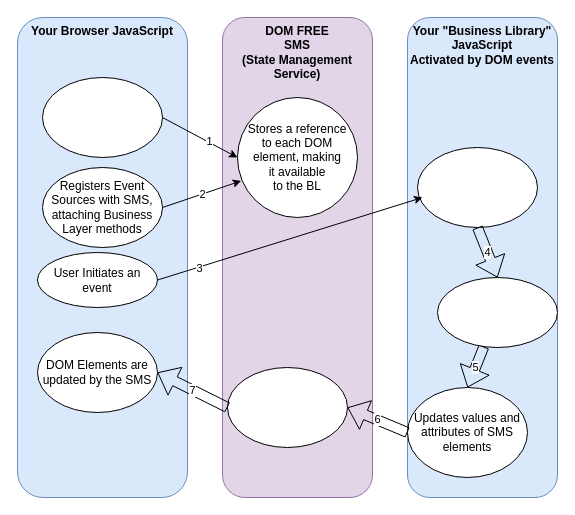
The diagram is 575 pixels wide and 515 high, and some of its shapes have lost their labels. Each missing label, with the box of its shape:
Gets Element values from SMS: (416, 146, 538, 228)
Performs needed Business logic: (436, 276, 558, 348)
Registers DOM elements with SMS: (42, 76, 162, 158)
Updates values and attributes of DOM elements: (226, 366, 348, 448)
